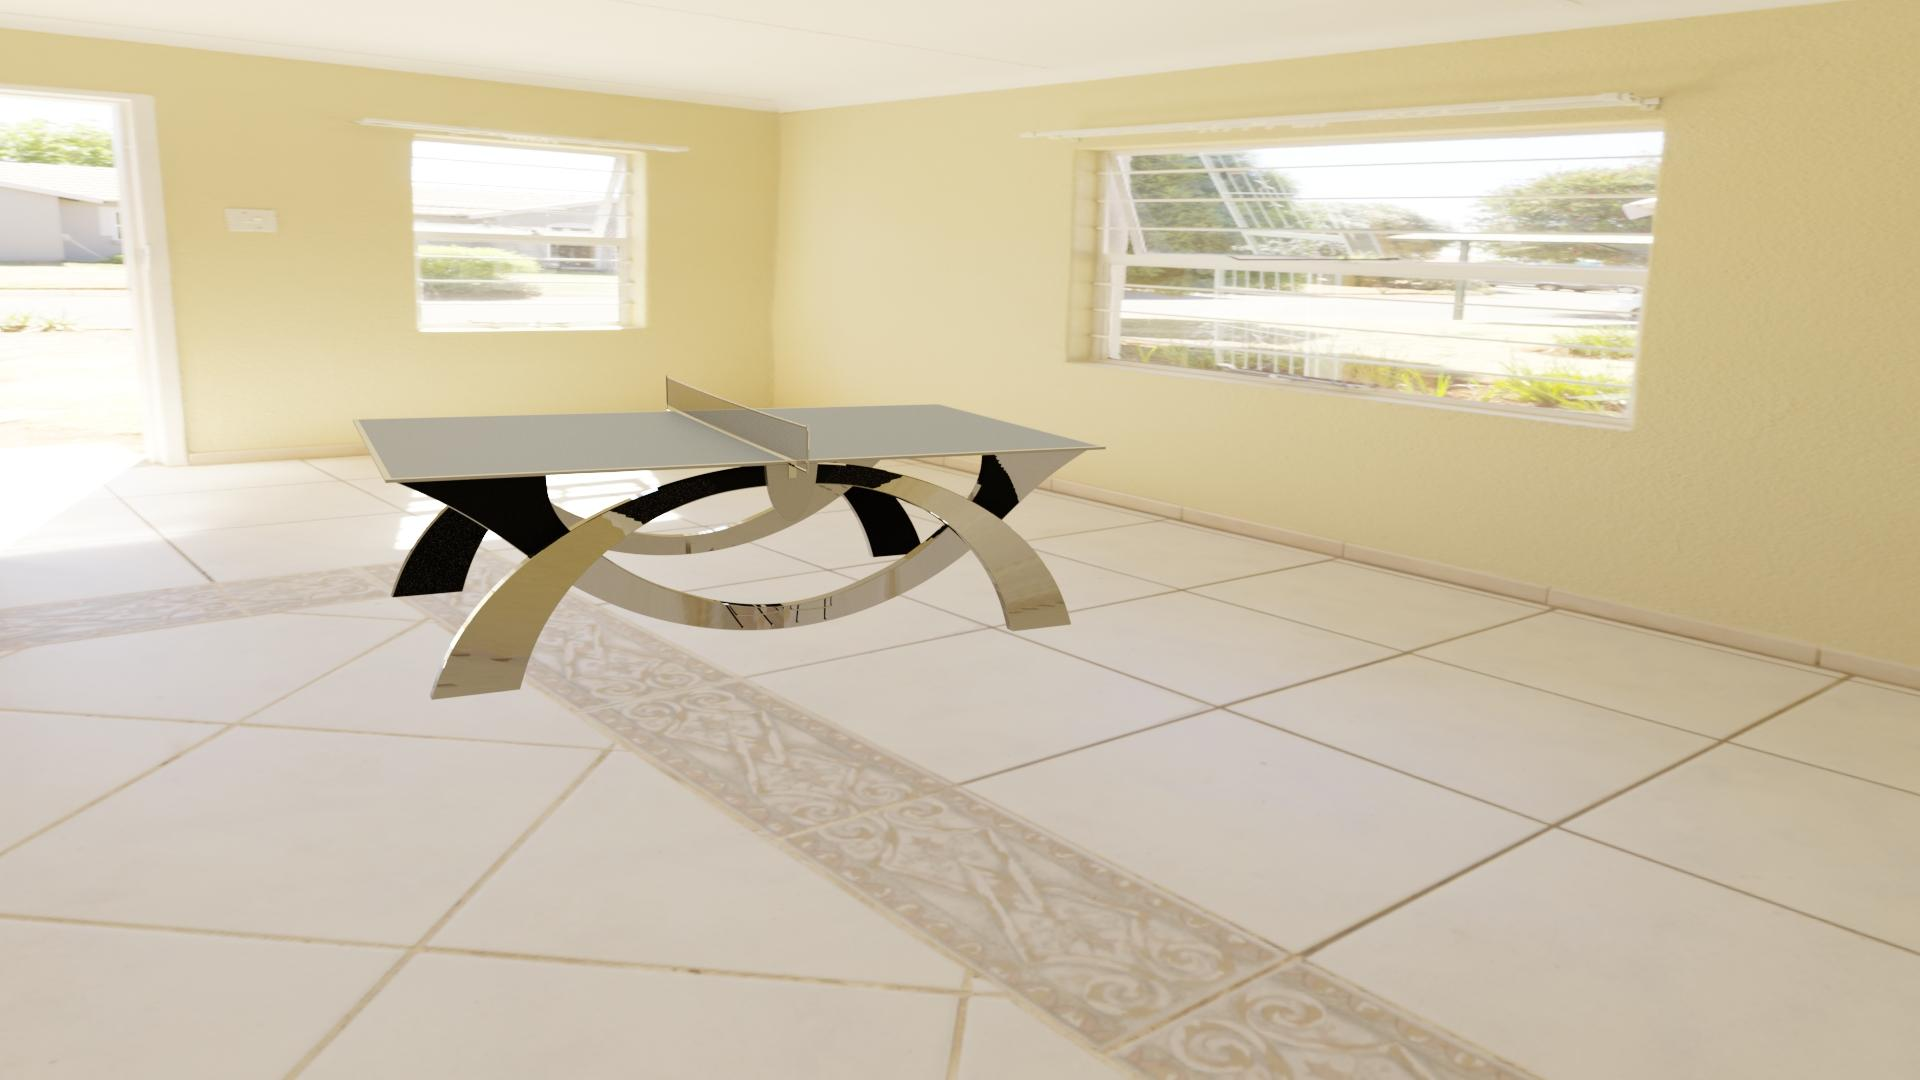table: (359, 405, 1100, 479)
